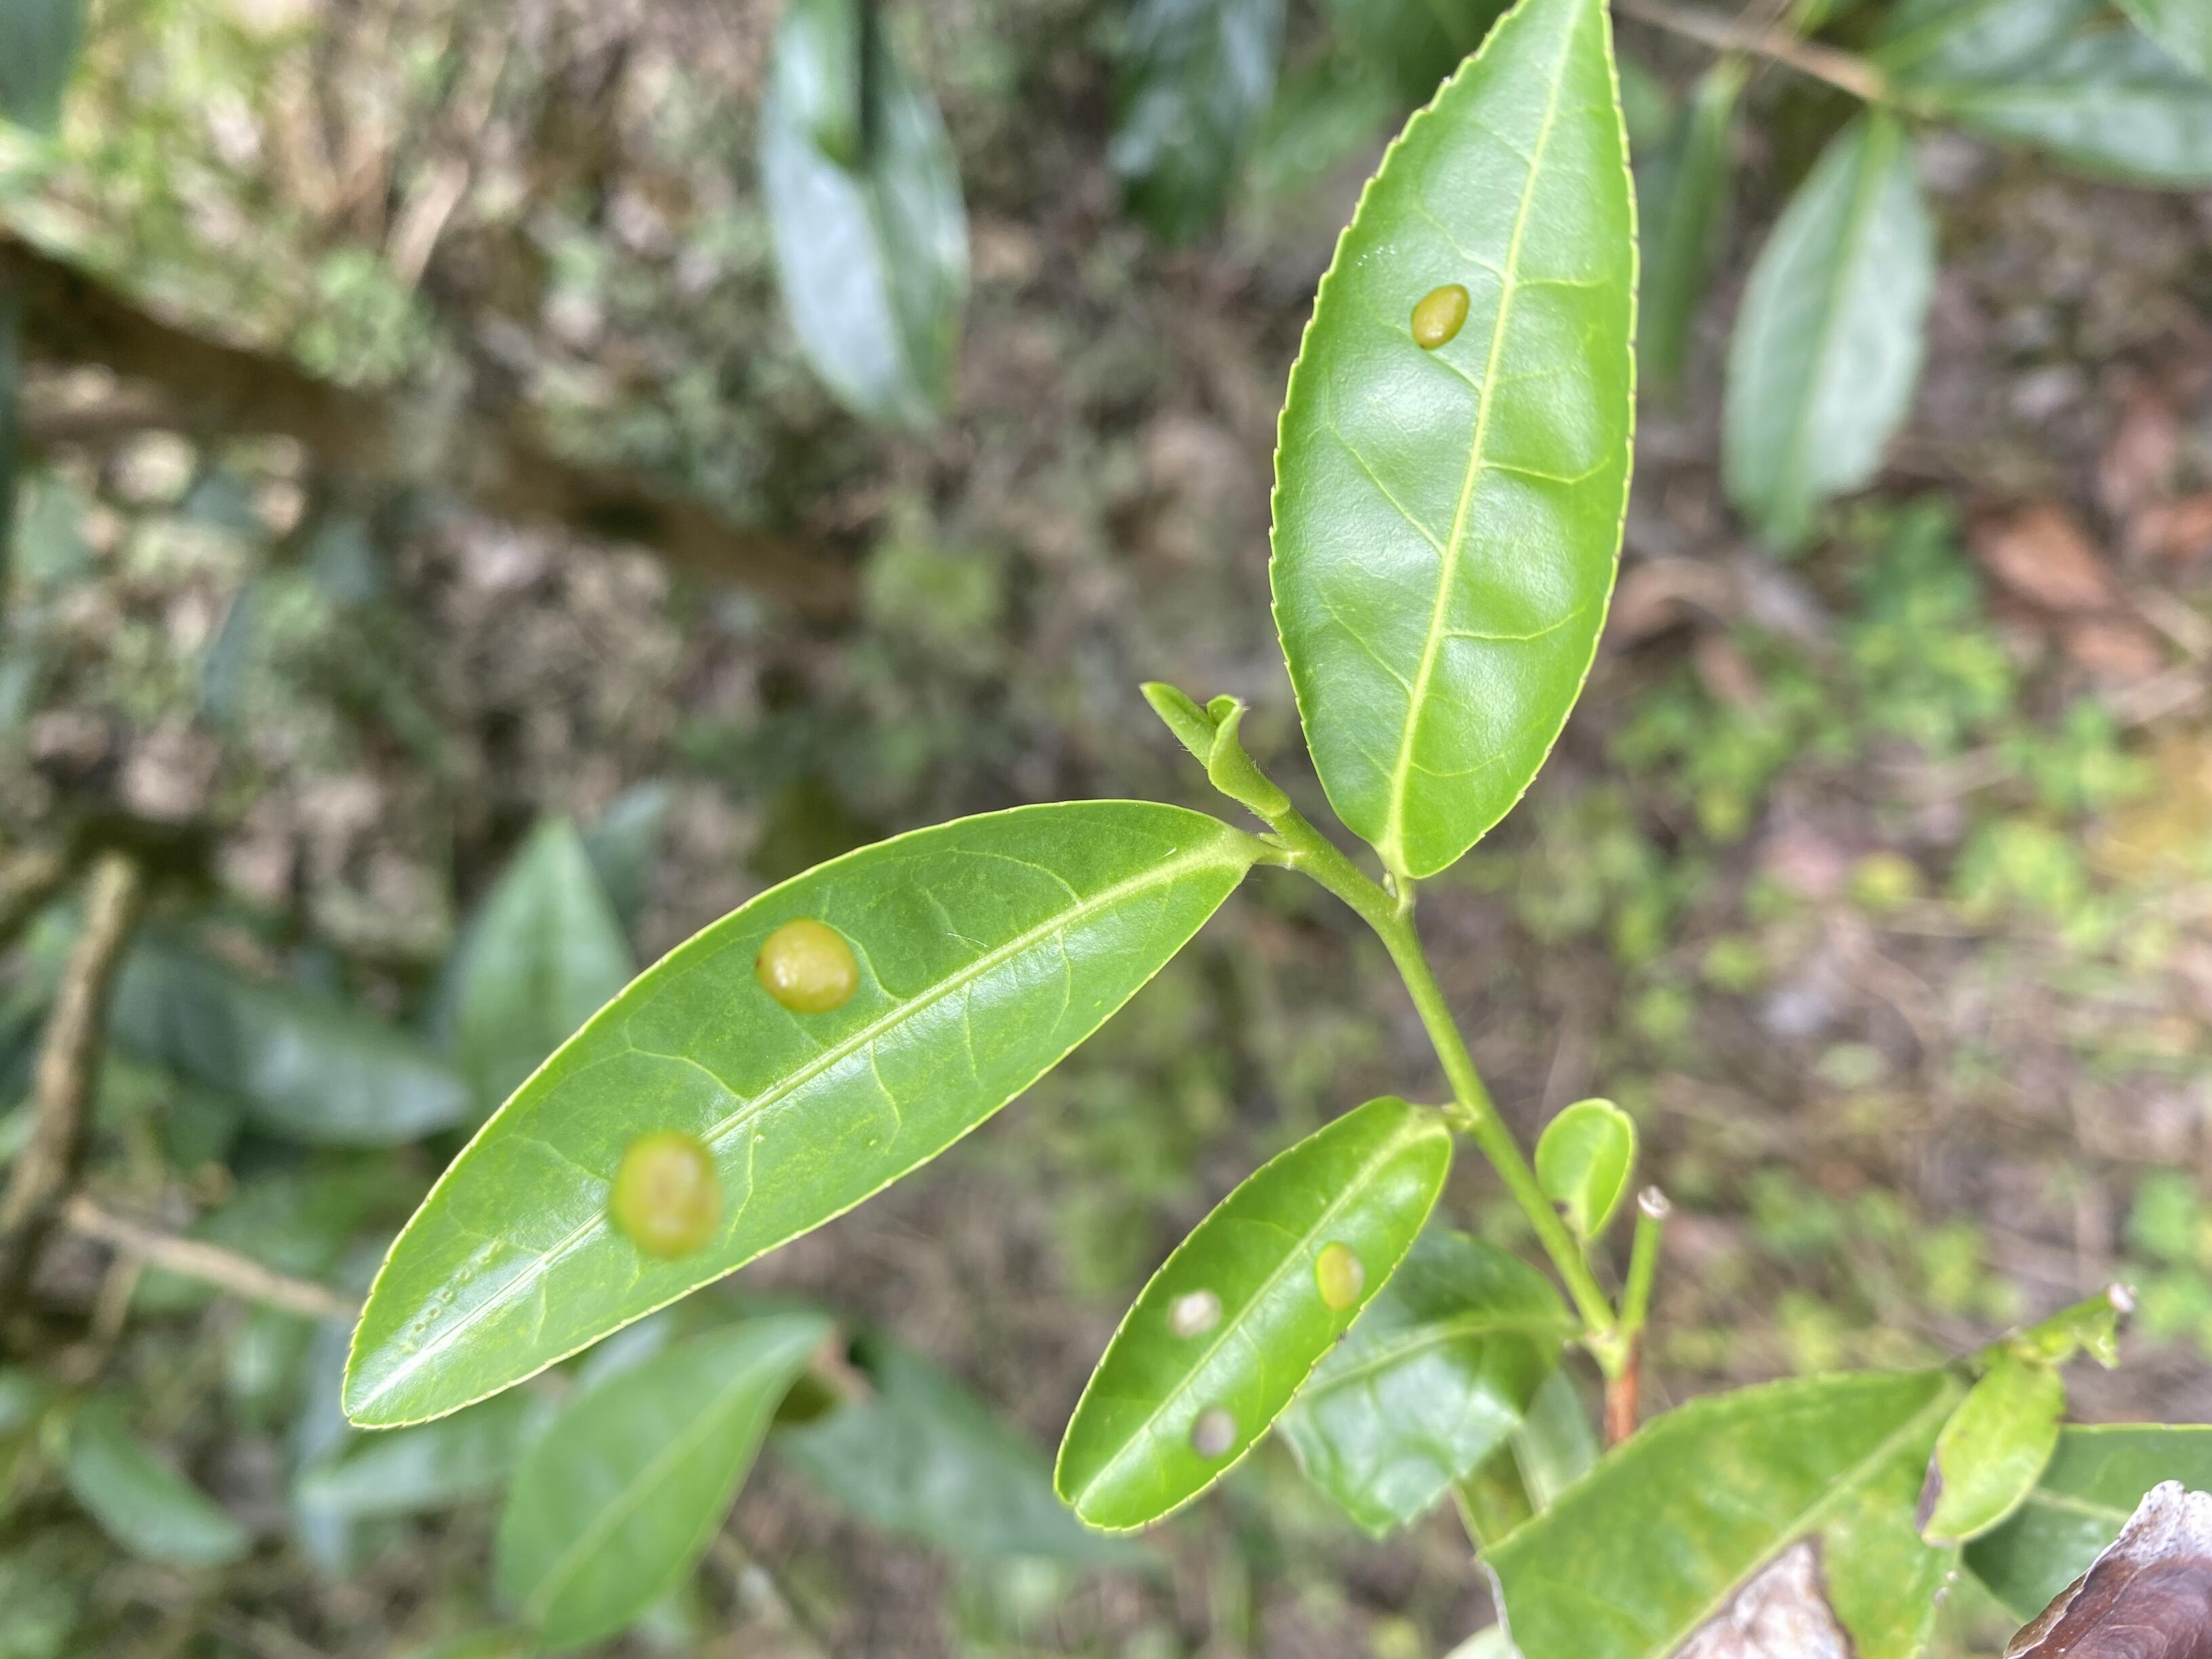chabing_high: (343, 800, 1252, 1436), (1052, 1094, 1451, 1537)
chabing_low: (1264, 2, 1639, 884)
tanju_high: (1479, 1368, 1970, 1656), (1918, 1354, 2066, 1544)
